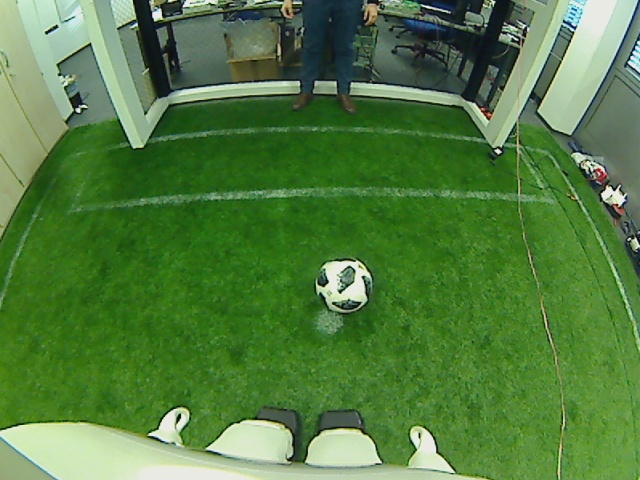ball: (312, 257, 375, 314)
